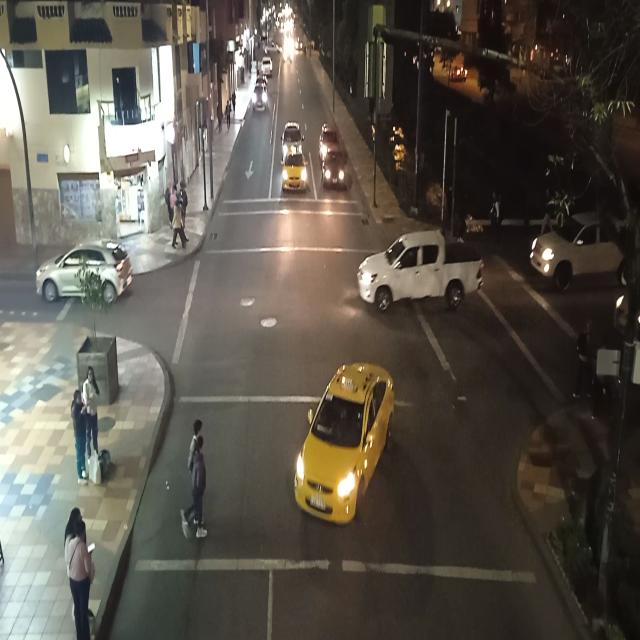CMT: (361, 234, 483, 307), (532, 212, 621, 278)
SED: (298, 364, 393, 516), (282, 156, 305, 192), (324, 154, 344, 188)
SUV: (37, 242, 129, 298), (253, 88, 266, 110), (263, 58, 273, 76)
